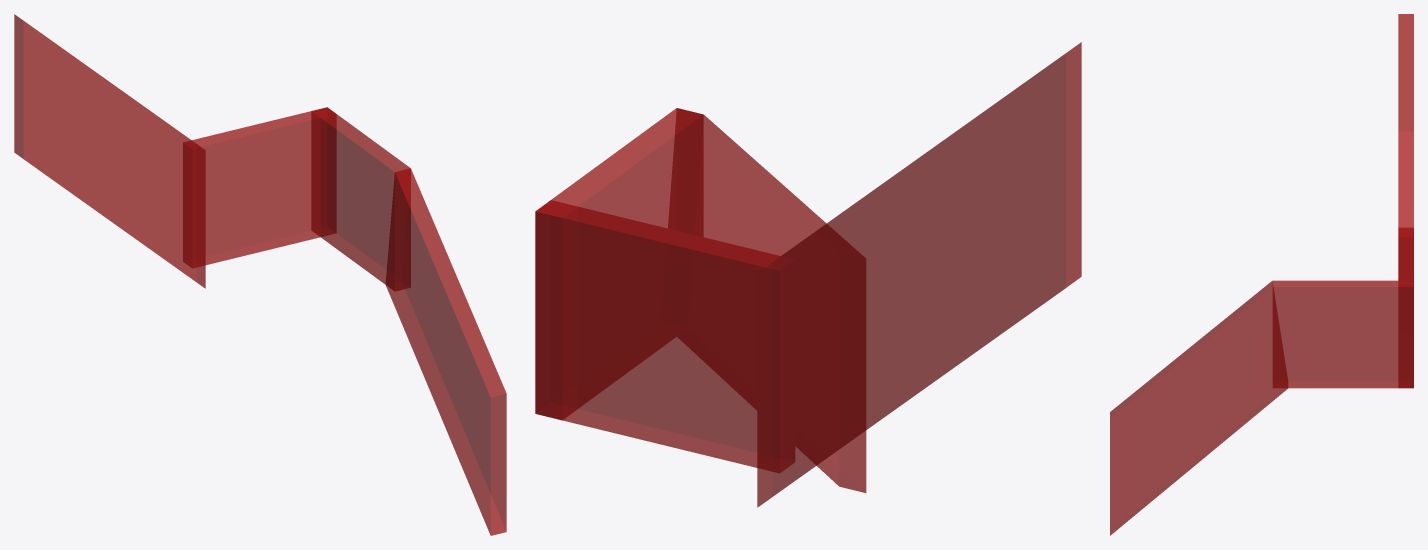
The model's file is SM_Bld_House_Stairs_Railing_02_Collision.fbx.
3 renders of one model, left to right at view 1: azimuth 30°, elevation 25°; view 2: azimuth 150°, elevation 25°; view 3: azimuth 270°, elevation 25°, orthographic. The views are drawn at different scales.
Parts seen in each view (by area): view 1: SM_Bld_House_Stairs_Railing_02_Collision; view 2: SM_Bld_House_Stairs_Railing_02_Collision; view 3: SM_Bld_House_Stairs_Railing_02_Collision.
Part boxes in pixels (left/top/right/bottom): SM_Bld_House_Stairs_Railing_02_Collision: left=14, top=14, right=506, bottom=535; SM_Bld_House_Stairs_Railing_02_Collision: left=535, top=42, right=1081, bottom=507; SM_Bld_House_Stairs_Railing_02_Collision: left=1110, top=14, right=1413, bottom=535.
Size of the model in its own units: 267 by 377 by 264.
